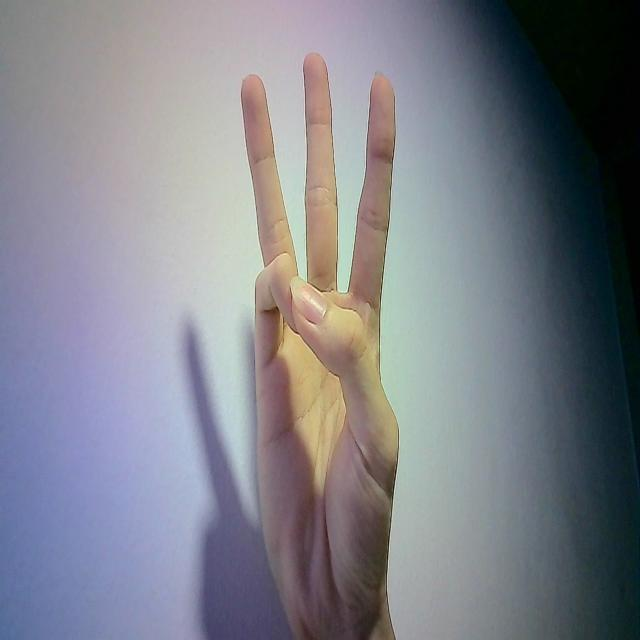W: (223, 42, 417, 637)
